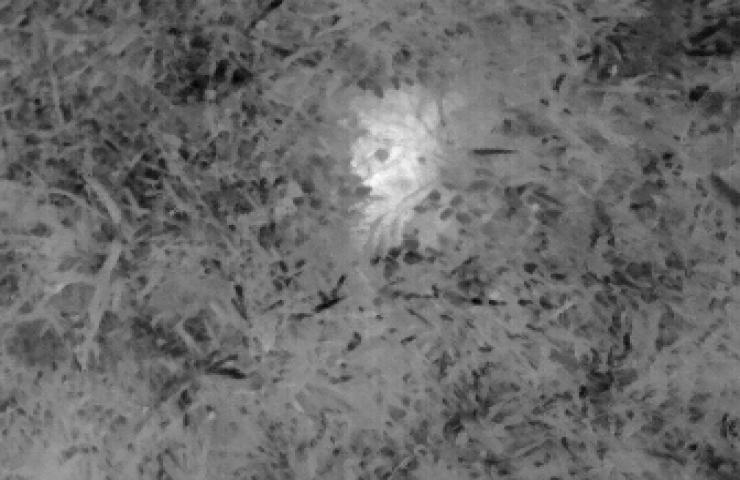landmines: (350, 110, 441, 203)
